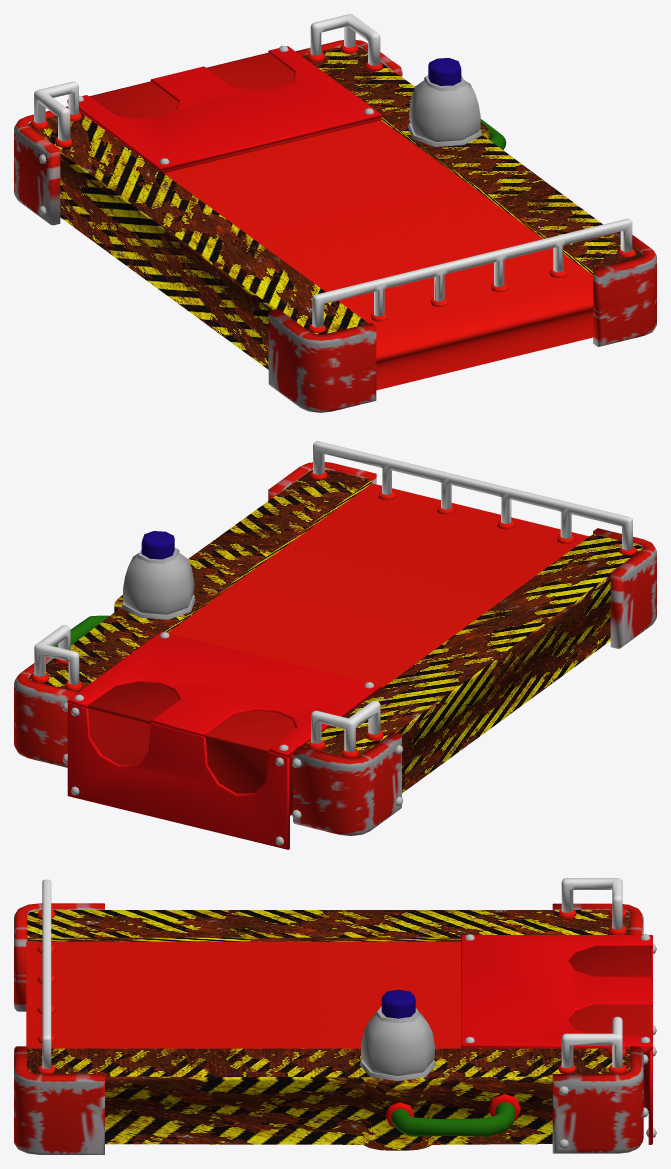
File: mario escena2.fbx
The picture shows the model from 3 angles, top to bottom: view 1: azimuth 30°, elevation 25°; view 2: azimuth 150°, elevation 25°; view 3: azimuth 270°, elevation 25°; orthographic projection. The views are drawn at different scales.
Parts seen in each view (by area): view 1: Cube.001, Cube.011, Cube.007, Cube.003, Cube.017, Cube.015, Cube.012, Cube.018, Cube.019, Cube.009, Cube.014; view 2: Cube.001, Cube.011, Cube.007, Cube.003, Cube.004, Cube.015, Cube.017, Cube.012, Cube.019, Cube.018, Cube.009, Cube.016 (+1 smaller); view 3: Cube.011, Cube.001, Cube.007, Cube.003, Cube.015, Cube.012, Circle.003, Cube.017, Cube.018, Cube.019, Cube.009, Cube.014 (+3 smaller).
Part boxes in pixels (x1,y1,x2,y2): Cube.001: [164, 120, 593, 390]; Cube.011: [28, 46, 642, 369]; Cube.007: [14, 40, 656, 412]; Cube.003: [67, 46, 381, 170]; Cube.017: [312, 218, 632, 327]; Cube.015: [68, 52, 381, 173]; Cube.012: [408, 75, 481, 146]; Cube.018: [310, 14, 380, 65]; Cube.019: [34, 81, 78, 141]; Cube.009: [31, 44, 635, 332]; Cube.014: [428, 58, 461, 85]; Cube.001: [168, 483, 588, 687]; Cube.011: [28, 469, 642, 793]; Cube.007: [14, 462, 656, 835]; Cube.003: [67, 632, 381, 756]; Cube.004: [67, 703, 289, 849]; Cube.015: [87, 681, 295, 815]; Cube.017: [313, 441, 632, 550]; Cube.012: [121, 548, 195, 619]; Cube.019: [311, 700, 380, 752]; Cube.018: [34, 625, 79, 684]; Cube.009: [31, 471, 636, 757]; Cube.016: [62, 632, 403, 845]; Cube.011: [27, 910, 630, 1150]; Cube.001: [26, 941, 460, 1048]; Cube.007: [14, 903, 643, 1154]; Cube.003: [461, 935, 652, 1048]; Cube.015: [462, 946, 651, 1110]; Cube.012: [359, 1006, 436, 1081]; Circle.003: [391, 1102, 515, 1136]; Cube.017: [42, 879, 51, 1068]; Cube.018: [561, 1016, 622, 1068]; Cube.019: [561, 878, 622, 929]; Cube.009: [37, 908, 626, 1073]; Cube.014: [381, 989, 415, 1018].
Size of the model in its own units: 13.25 by 5.19 by 18.29.
12 materials, 3 textured.
